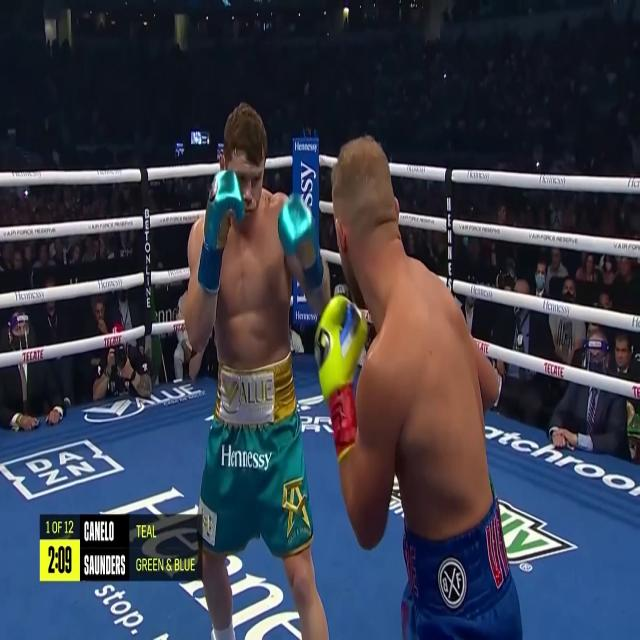boxer_1: (333, 136, 499, 549)
boxer_2: (184, 102, 330, 369)
gloves_1: (315, 294, 367, 399)
gloves_2: (198, 168, 245, 293), (278, 193, 324, 288)
